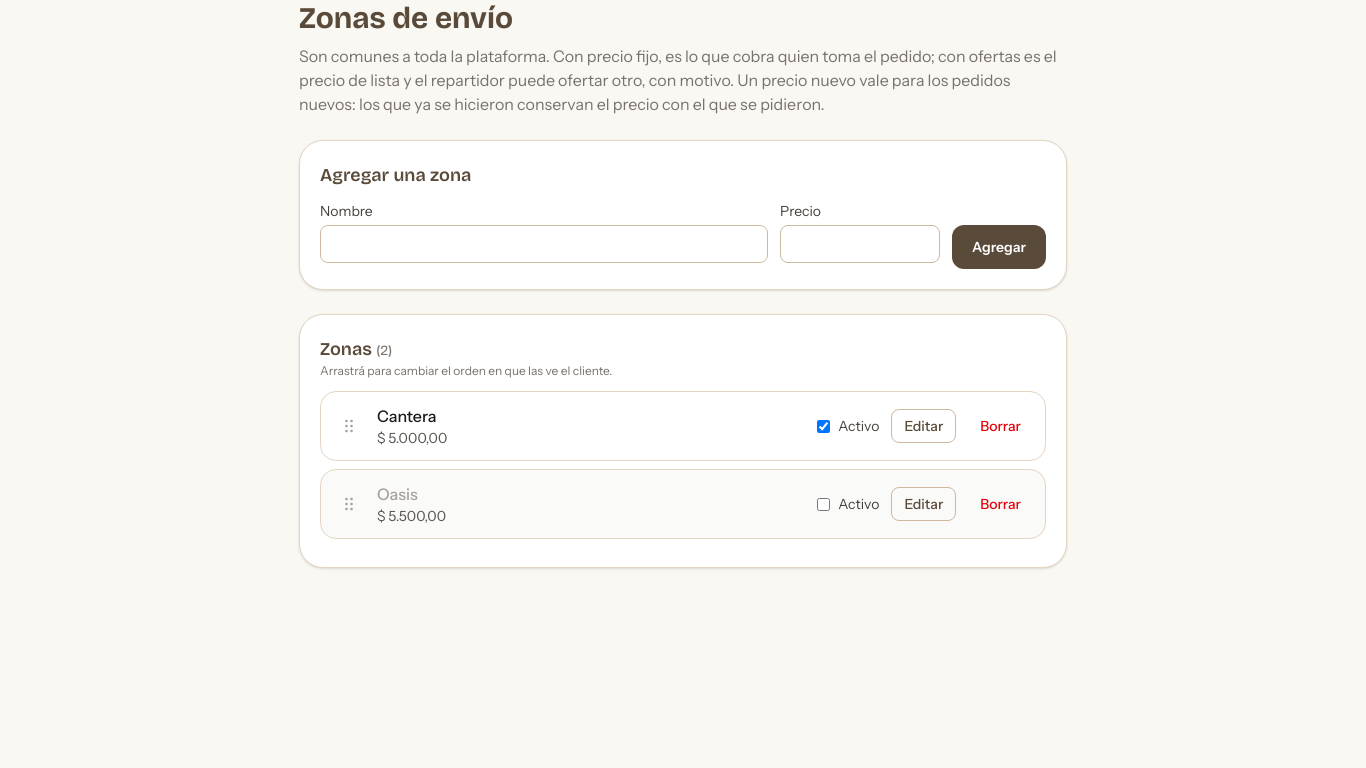
Test: zonas de la plataforma — ENVIO-56 › si la zona ya tiene pedidos y quedó desactivada, lo avisa en pantalla
Click the button "Borrar" in the row of "$ 5.000,00": (1001, 426) top-left (968, 410), bottom-right (1033, 442)
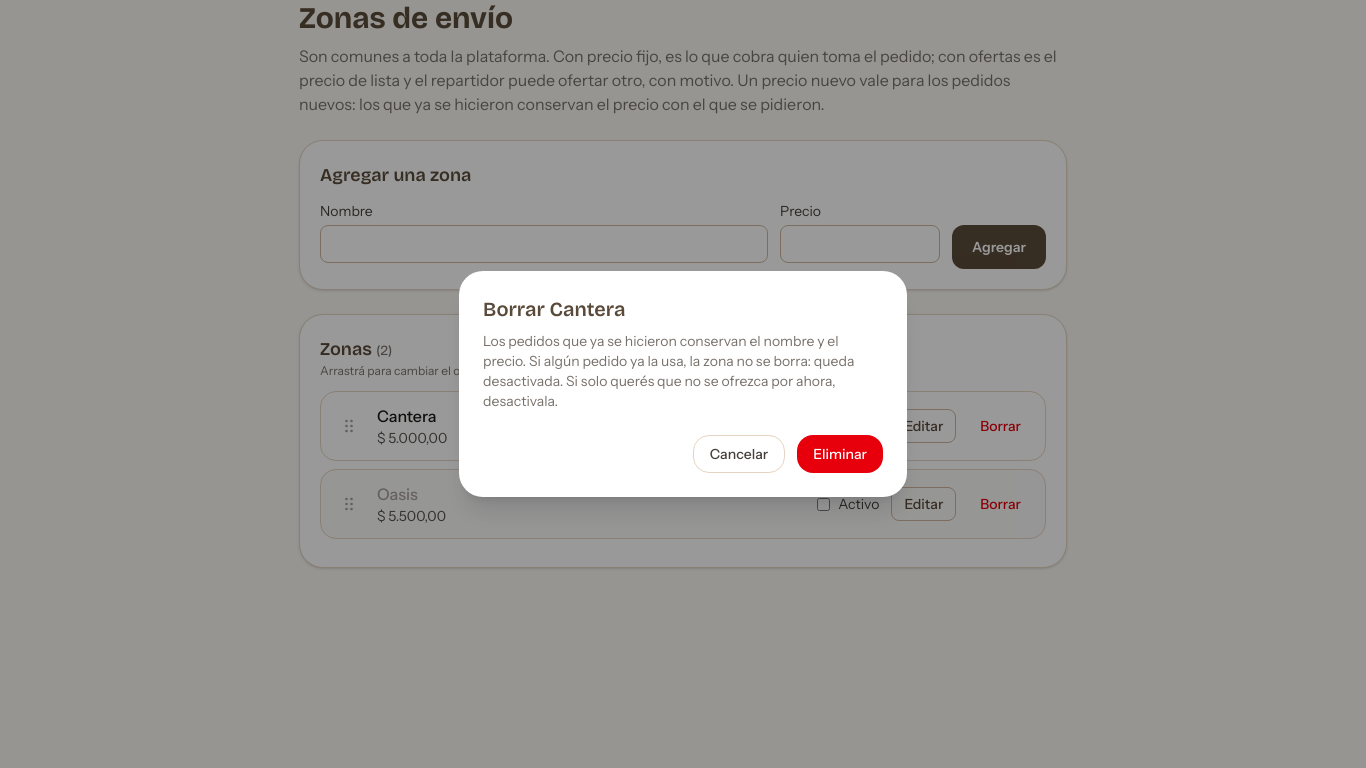
Click the button "Eliminar": (840, 454) top-left (797, 435), bottom-right (883, 473)
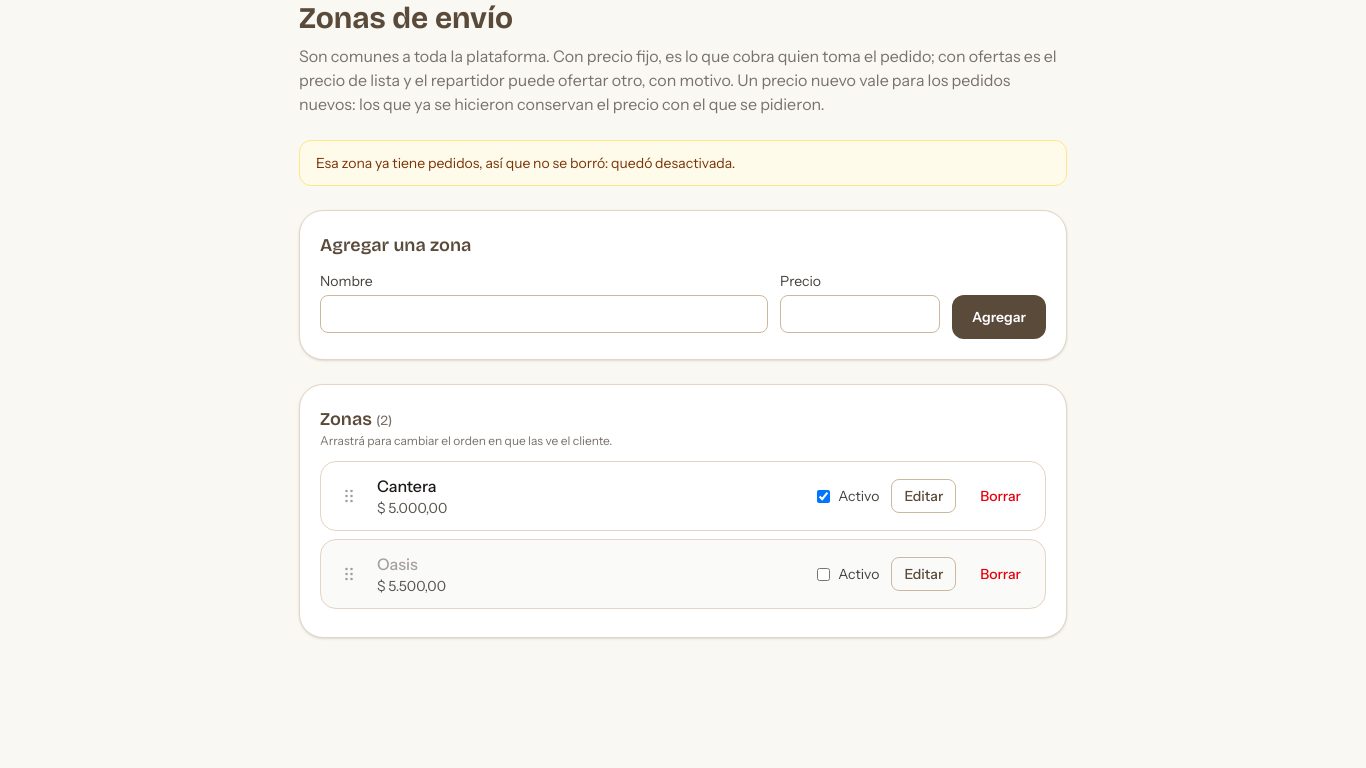
Check: the text "Esa zona ya tiene pedidos, así que no se borró: quedó desactivada." is shown, box top-left (299, 140), bottom-right (1067, 186)
